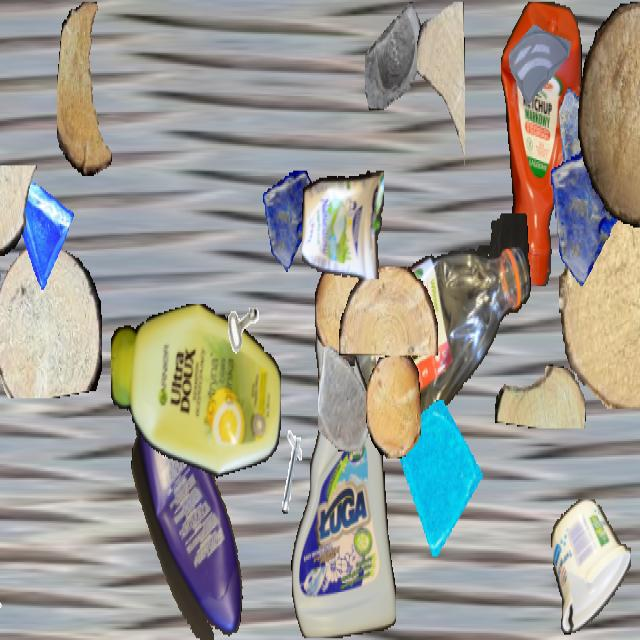glass: (399, 400, 487, 556), (549, 140, 633, 290), (4, 167, 74, 292), (509, 2, 571, 112), (365, 2, 425, 108), (318, 346, 376, 449), (559, 82, 615, 181), (263, 171, 319, 270)
metal: (207, 254, 267, 361), (267, 430, 323, 530), (0, 553, 9, 620)
plastic: (353, 213, 531, 423), (291, 301, 395, 638), (111, 304, 281, 482), (128, 386, 248, 638), (501, 2, 581, 286), (551, 500, 631, 634), (302, 164, 384, 278)
wood: (559, 194, 640, 407), (0, 242, 102, 398), (578, 2, 640, 229), (57, 2, 117, 176), (339, 266, 437, 356), (417, 2, 465, 172), (495, 364, 585, 428), (366, 356, 420, 458), (315, 260, 365, 366), (0, 166, 37, 262)
